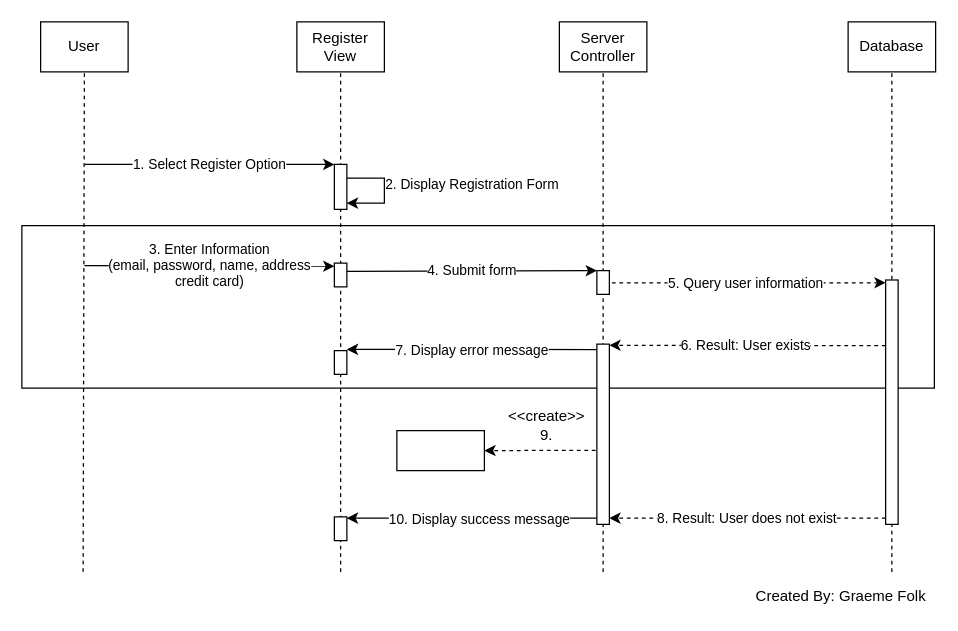
Image size: 958x631. Some labels were removed from this diagram. The centre of each missing label's shape, as x and y in pixels:
"LOOP" belongs at point (477, 306).
"Registered User" belongs at point (440, 450).
